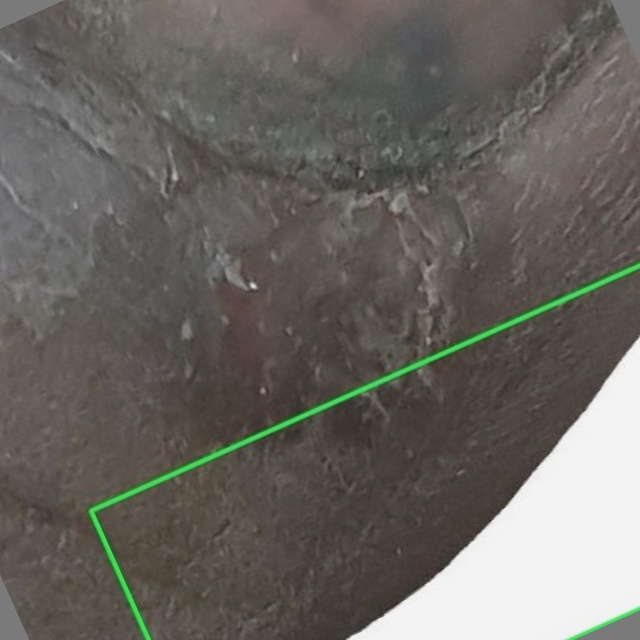Eczema: (91, 265, 639, 639)
